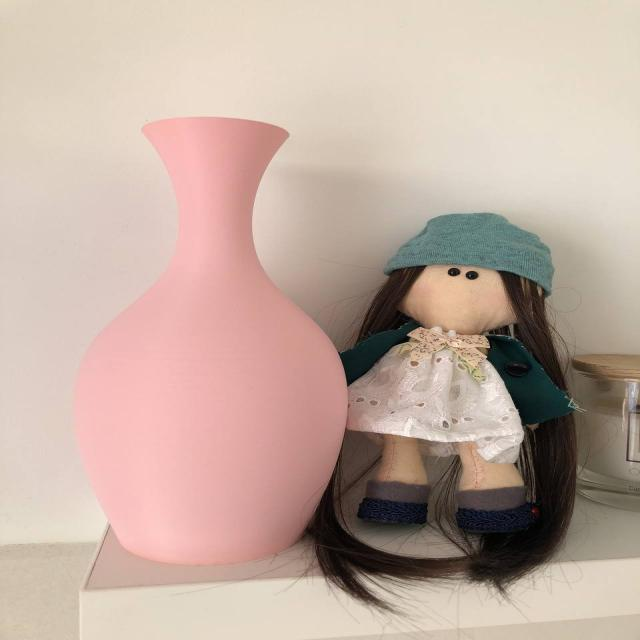Without deffect: (77, 103, 346, 578)
